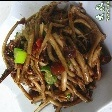chashugu: (0, 0, 108, 110)
